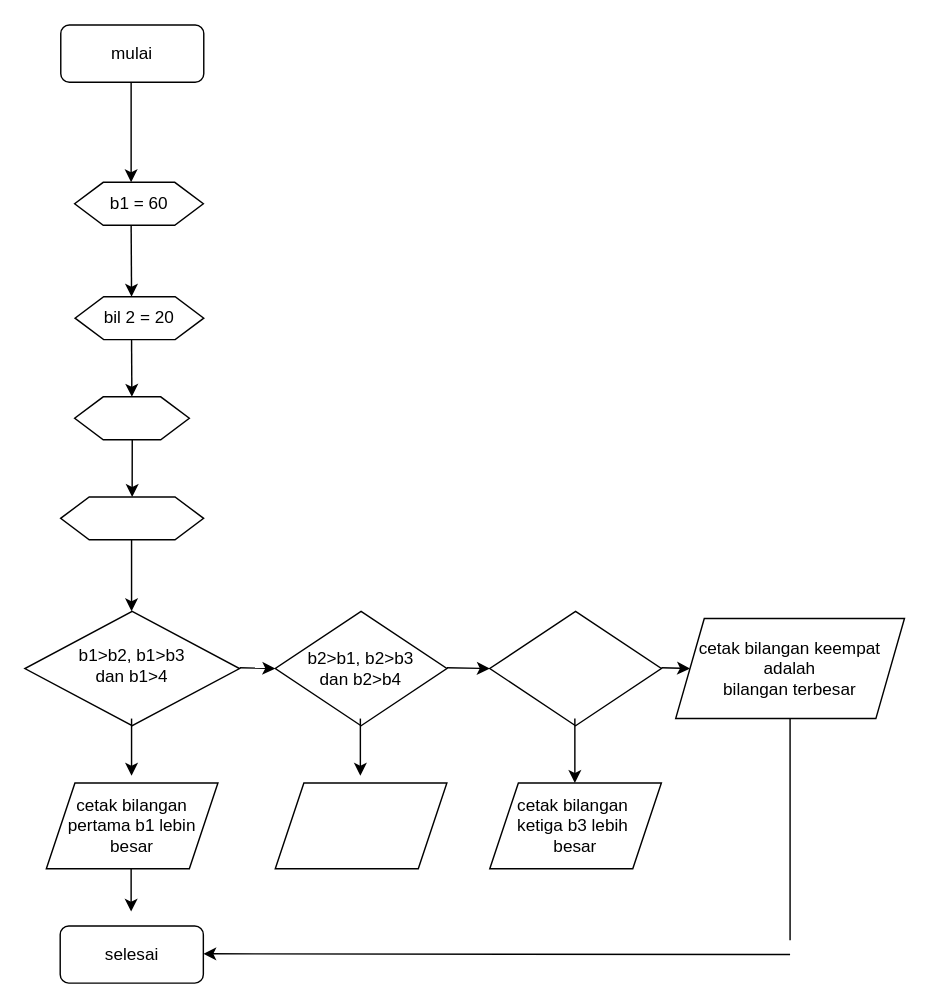
Image size: 931x1008. Some labels were removed from this diagram. The shapes that lost their labels are listed below. From the top down, each one's box as (x1, y1, x2, y2) in pixels, then its label:
(73, 395, 189, 440): bil 3 = 100
(59, 495, 204, 540): bil 4 = 40
(488, 610, 661, 726): b3>b1, b3>b2 dan b3>b4
(274, 781, 447, 869): cetak bilangan kedua b2 lebih besar
